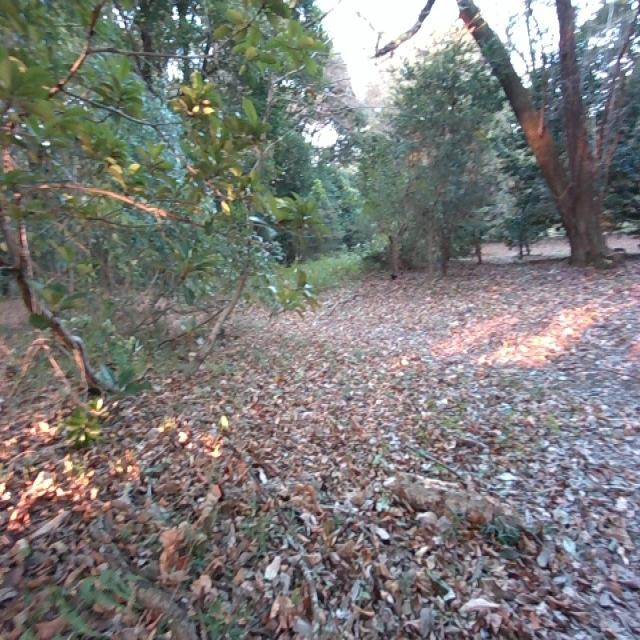bush: (0, 0, 304, 397)
tree: (453, 0, 625, 271)
